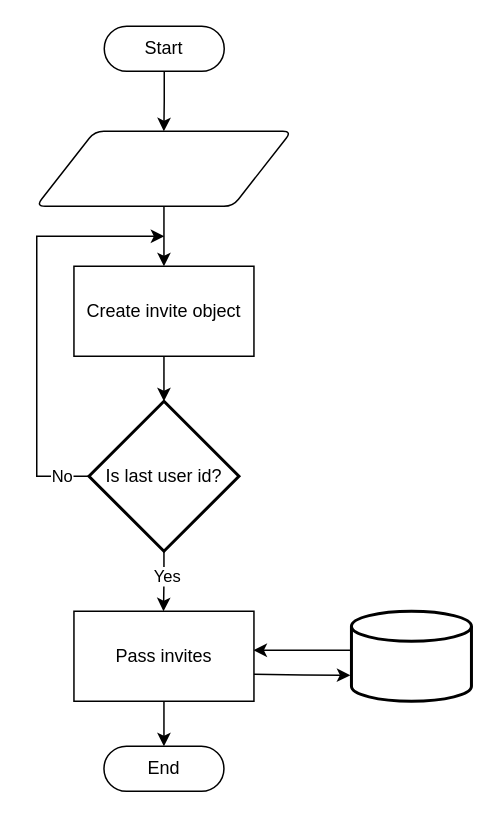
Image size: 500x818. Some labels were removed from this diagram. The shapes that lost their labels are listed below. From the top down, each one's centre as x and y in pixels, then its label:
At [163,168]: "User IDs, Group information".
At [410,655]: "public.invites".
